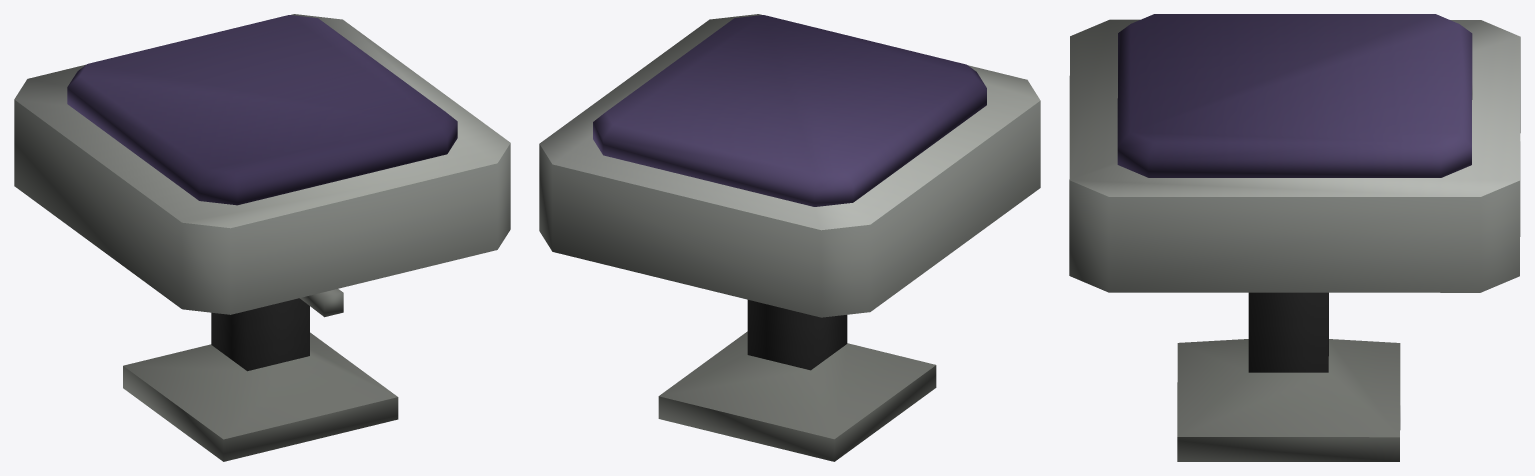
Rendered from piano-chair.fbx.
3 views of the same model, side by side, from view 1: azimuth 30°, elevation 25°; view 2: azimuth 150°, elevation 25°; view 3: azimuth 270°, elevation 25° (orthographic). The views are drawn at different scales.
Parts seen in each view (by area): view 1: piano-chair; view 2: piano-chair; view 3: piano-chair.
Boxes of the visible parts, <box> form: piano-chair: <box>14,14,510,461</box>; piano-chair: <box>539,14,1040,461</box>; piano-chair: <box>1069,14,1520,461</box>.
Bounding box in the file's own units: 0.4794 × 0.4276 × 0.5154.
